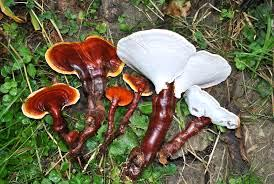Ganoderma - Fruit Body: (121, 29, 233, 94), (21, 83, 81, 134), (43, 37, 119, 76), (181, 94, 241, 129)
